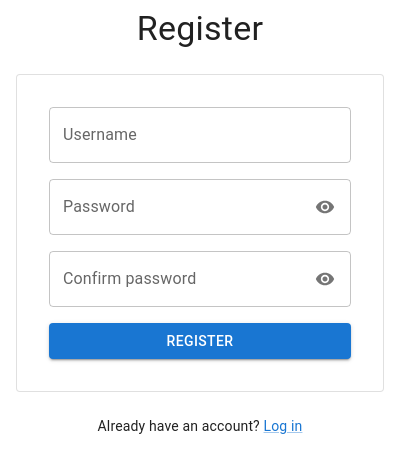
Test: RegisterPage › rejects a mismatched confirm-password field
The width and height of the screenshot is (401, 474).
Type "newuser" into the field labelled "Username" at (200, 135), box [49, 107, 351, 163]
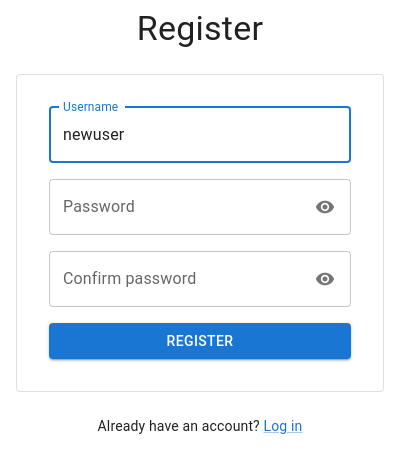
Type "secret123" into the password field labelled "Password" at (176, 207), box [49, 179, 302, 235]
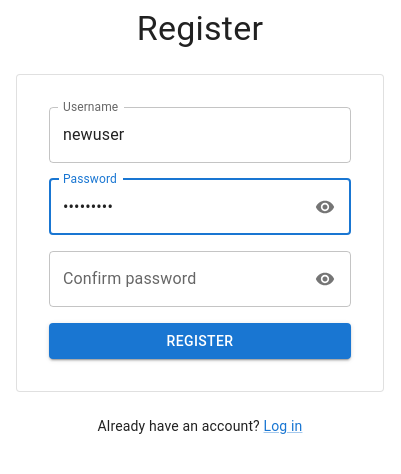
Type "different123" into the password field labelled "Confirm password" at (176, 279), box [49, 251, 302, 307]
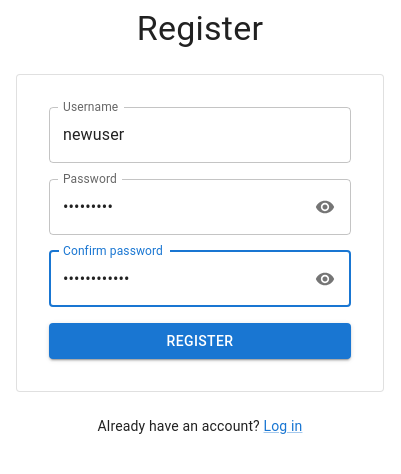
Click the button "Register" at (200, 341), box [49, 323, 351, 360]
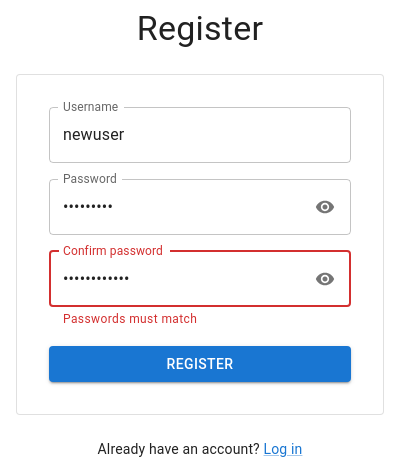
Expected: the text "Passwords must match" is shown, [63, 312, 197, 326]
